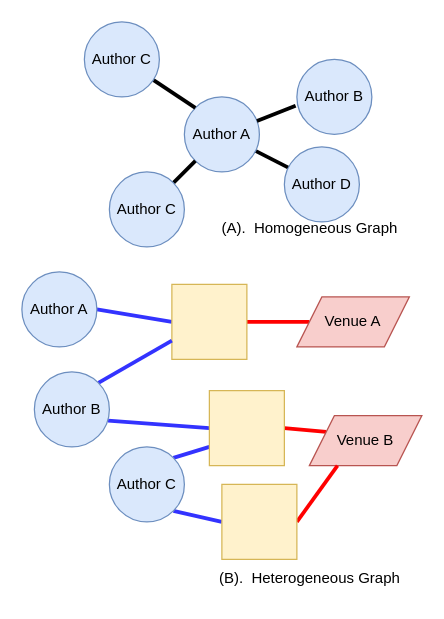
This 444x619 diagram has some shape labels left out. The shapes that lost their labels are listed below. From the top down, each one's centre as x and y in pixels, then its label:
[209,321]: Paper A
[246,427]: Paper B
[259,521]: Paper C
